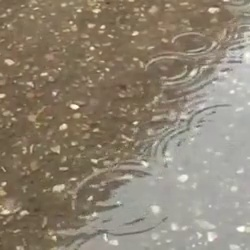drop: (74, 165, 172, 236), (190, 103, 240, 140), (154, 127, 204, 162), (145, 54, 201, 85), (172, 32, 216, 55)
